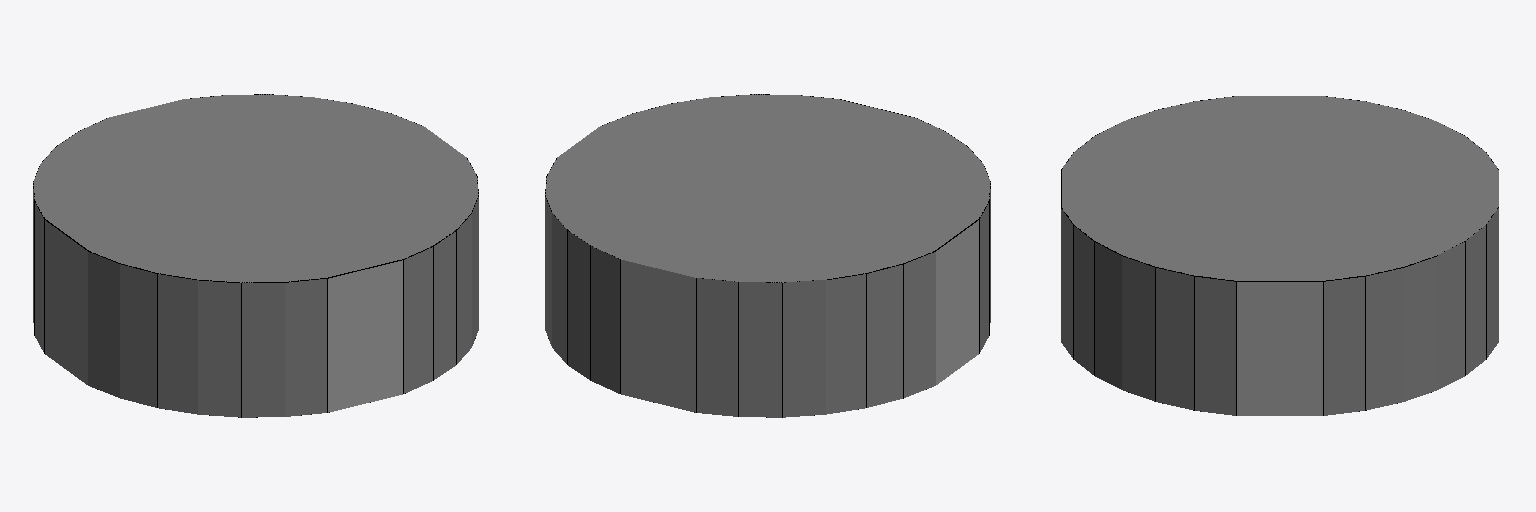
3 renders of one model, left to right at view 1: azimuth 30°, elevation 25°; view 2: azimuth 150°, elevation 25°; view 3: azimuth 270°, elevation 25°, orthographic.
Parts seen in each view (by area): view 1: tanksection_Cylinder; view 2: tanksection_Cylinder; view 3: tanksection_Cylinder.
Boxes of the visible parts, x1,y1,x2,y2 form: tanksection_Cylinder: [33, 94, 478, 417]; tanksection_Cylinder: [545, 94, 990, 417]; tanksection_Cylinder: [1061, 96, 1498, 415].
Bounding box in the file's own units: 11.77 × 4 × 11.77.
1 materials, 1 textured.